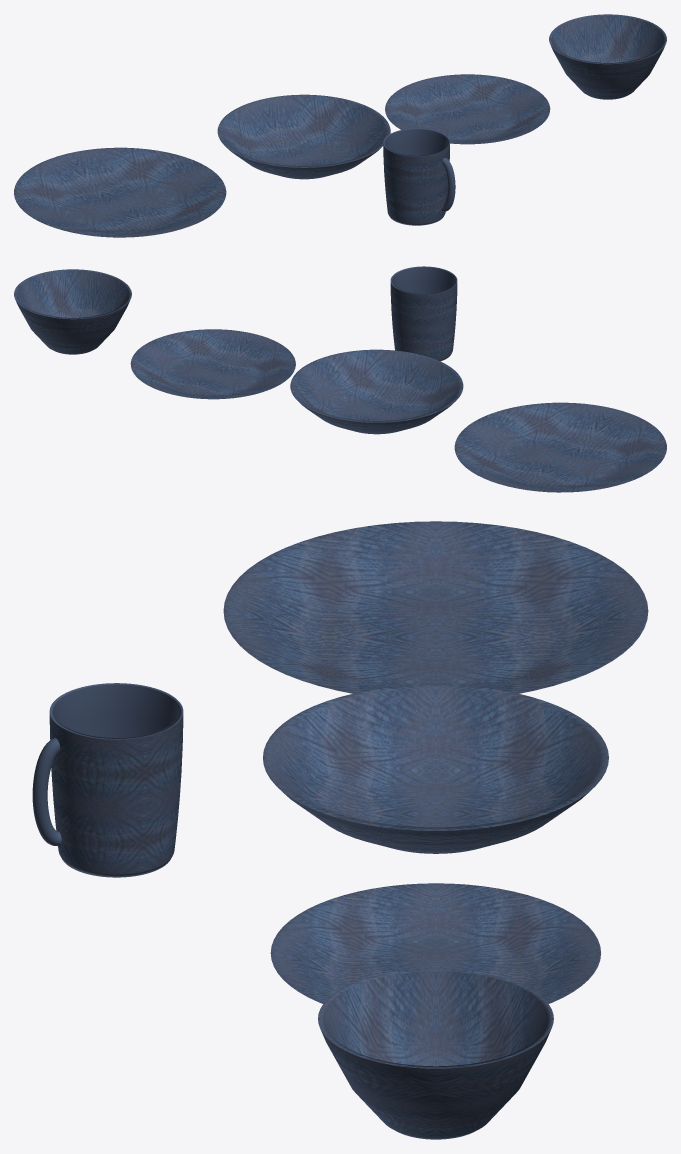
3 views of the same model, one above another, from view 1: azimuth 30°, elevation 25°; view 2: azimuth 150°, elevation 25°; view 3: azimuth 270°, elevation 25° (orthographic). The views are drawn at different scales.
Size of the model in its own units: 0.926 by 0.1 by 0.3913.
11 materials, 9 textured.
